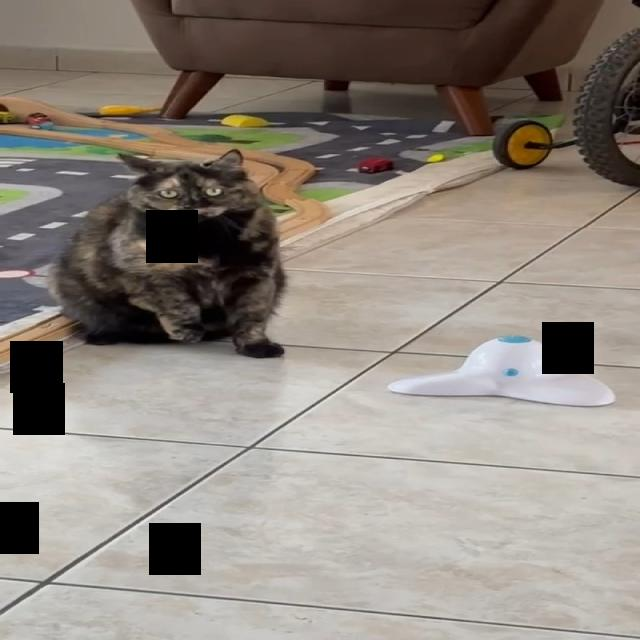authorized: (45, 148, 288, 358)
